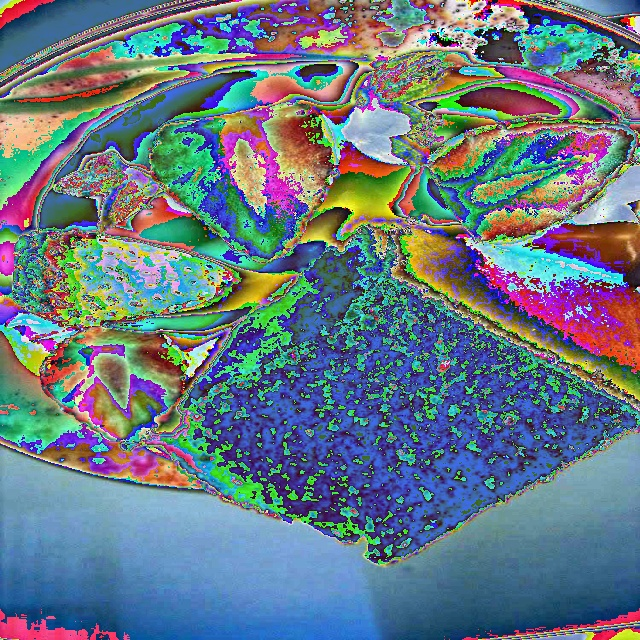background: (8, 52, 639, 567)
